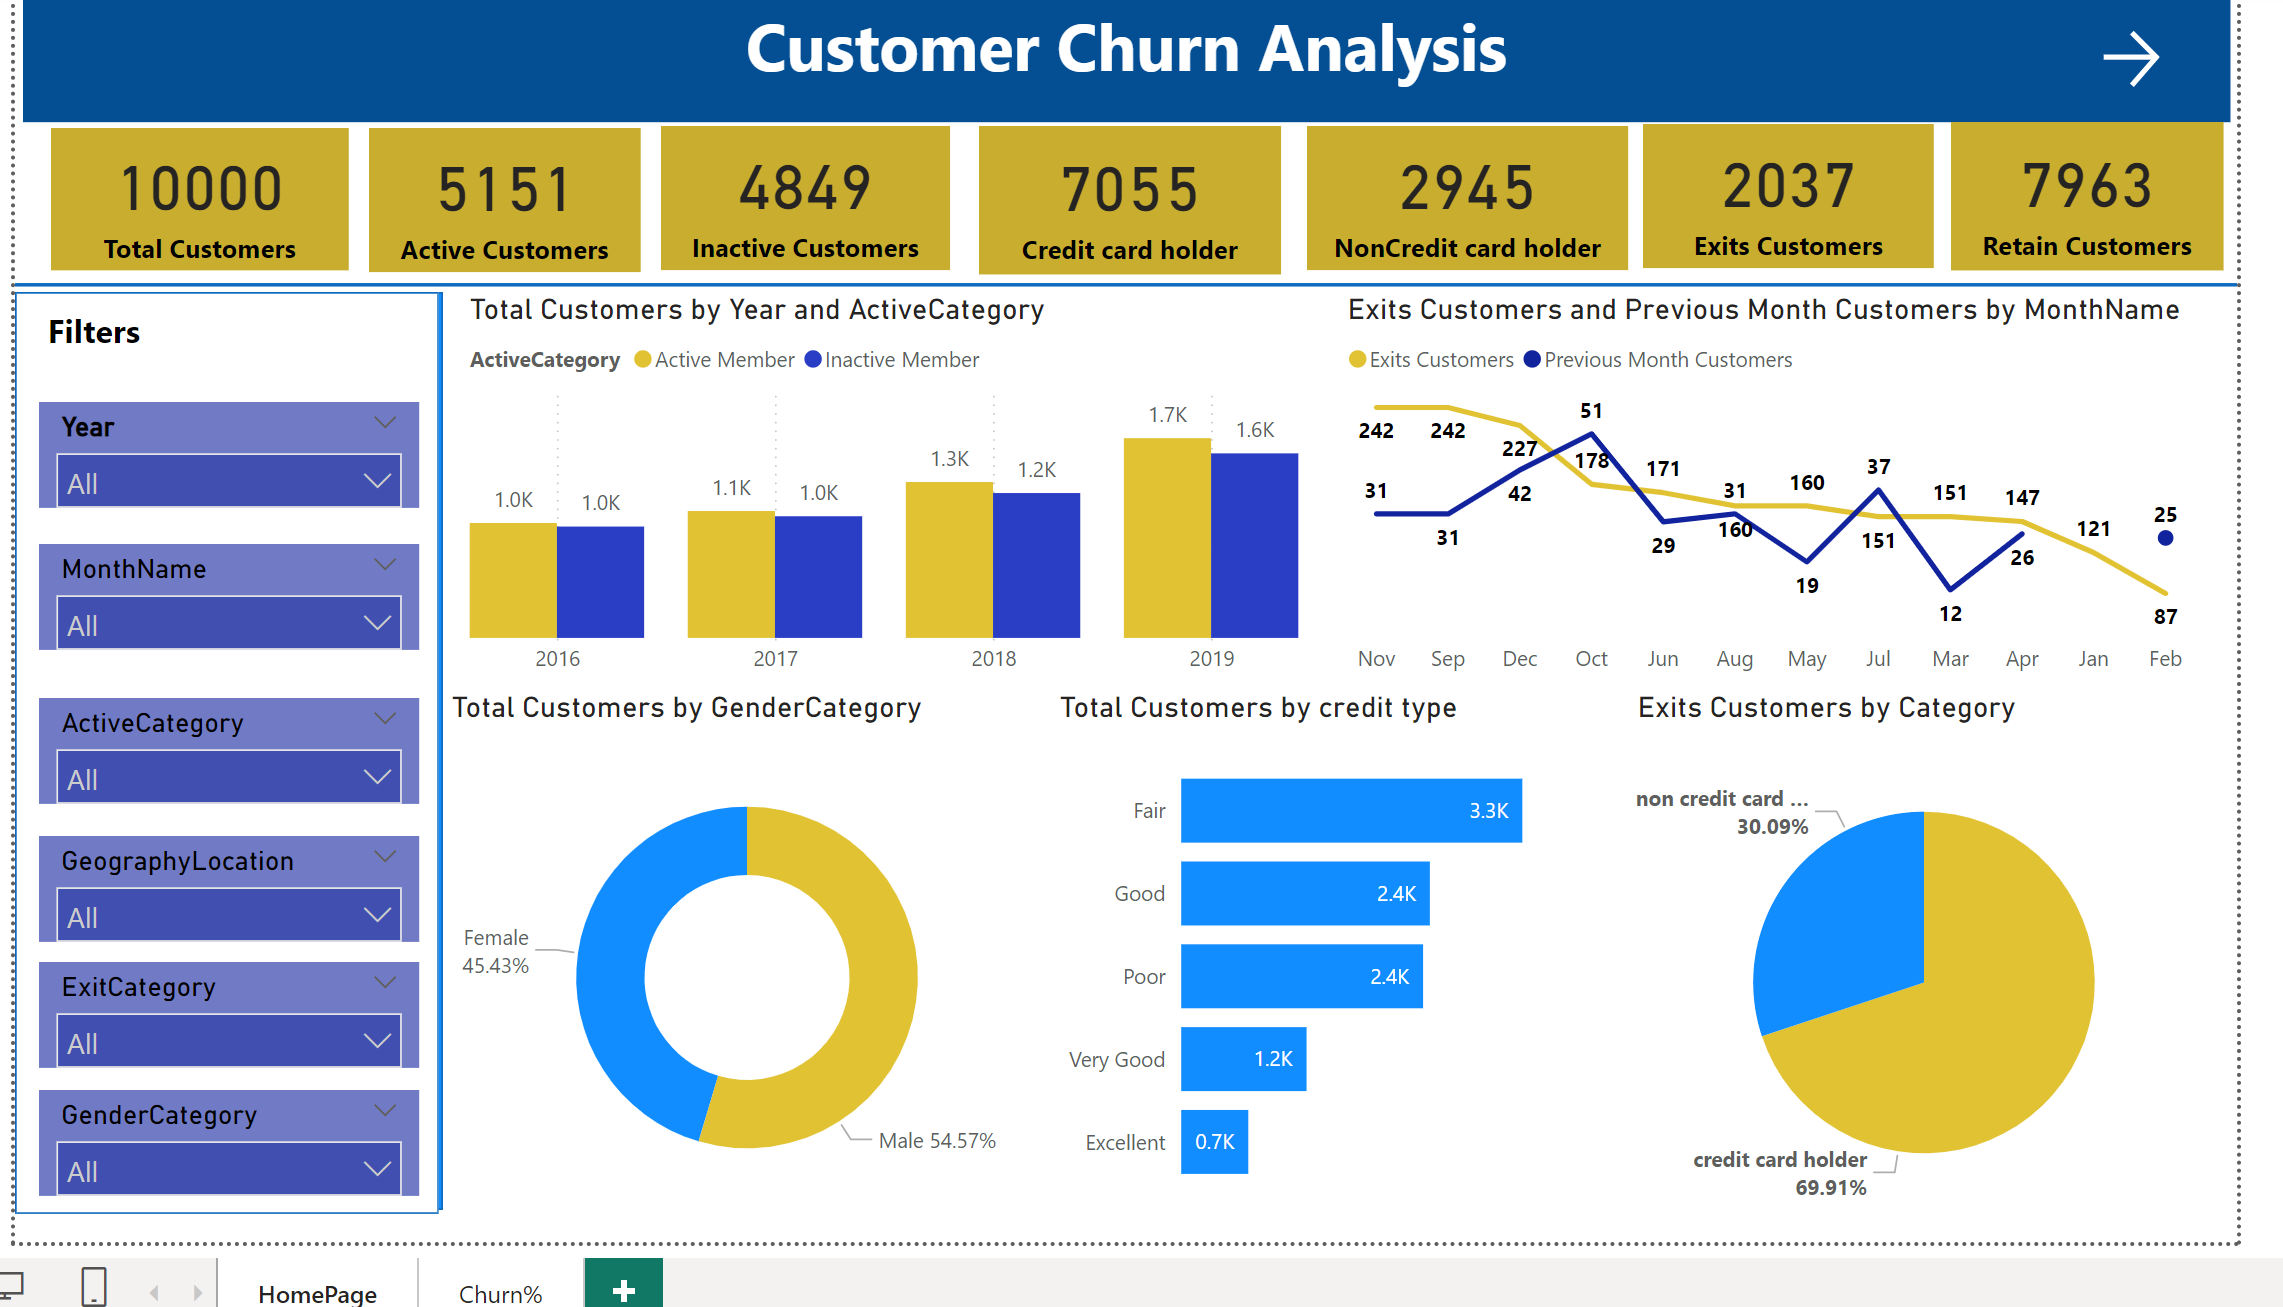

This screenshot's page, from the dashboard's own definition file:
{"tool":"powerbi","page":{"name":"HomePage","canvas":[1280,720],"ordinal":0},"visuals":[{"type":"textbox","box":[5,0,1271.2,75],"z":0},{"type":"card","fields":{"Values":["Calculations.Total Customres"]},"box":[21.2,77.9,171.2,81.9],"z":0,"group":"g1"},{"type":"shape","box":[4.6,172.9,241.9,528.8],"z":0,"group":"g2"},{"type":"group","id":"g1","title":"Group 1","box":[0,74.9,1280,629.1],"z":1000},{"type":"card","fields":{"Values":["Calculations.Active Customers"]},"box":[203.8,77.9,156.2,83],"z":1000,"group":"g1"},{"type":"shape","box":[0,172.9,244.2,531.1],"z":1000,"group":"g2"},{"type":"card","fields":{"Values":["Calculations.Inactive Customers"]},"box":[372.5,76.8,166.2,83],"z":2000,"group":"g1"},{"type":"slicer","fields":{"Values":["Datemaster.Year"]},"box":[13.8,236.2,218.9,61.1],"z":2000},{"type":"card","fields":{"Values":["Calculations.Credit card holder"]},"box":[555,76.8,173.8,85.3],"z":3000,"group":"g1"},{"type":"slicer","fields":{"Values":["Geography.GeographyLocation"]},"box":[13.8,486.1,218.9,61.1],"z":3000},{"type":"card","fields":{"Values":["Calculations.NonCredit card holder"]},"box":[743.8,76.8,185,83],"z":4000,"group":"g1"},{"type":"slicer","fields":{"Values":["ExitCustomer.ExitCategory"]},"box":[13.8,558.7,218.9,61.1],"z":4000},{"type":"card","fields":{"Values":["Calculations.Exits Customers"]},"box":[937.5,75.7,167.5,83],"z":5000,"group":"g1"},{"type":"slicer","fields":{"Values":["Gender.GenderCategory"]},"box":[13.8,632.4,218.9,61.1],"z":5000},{"type":"card","fields":{"Values":["Calculations.Retain Customers"]},"box":[1115.5,74.9,156.8,85.3],"z":6000,"group":"g1"},{"type":"slicer","fields":{"Values":["Datemaster.MonthName"]},"box":[13.8,318,218.9,61.1],"z":6000},{"type":"shape","box":[0,159.8,1280,17.1],"z":7000,"group":"g1"},{"type":"slicer","fields":{"Values":["ActiveCustomer.ActiveCategory"]},"box":[13.8,406.7,218.9,61.1],"z":7000},{"type":"group","id":"g2","title":"Group 2","box":[0,172.9,246.5,531.1],"z":8000,"group":"g1"},{"type":"textbox","box":[13.8,177.5,77.5,41.2],"z":8000},{"type":"clusteredColumnChart","fields":{"Category":["Datemaster.Year","Datemaster.MonthName"],"Y":["Calculations.Total Customers"],"Series":["ActiveCustomer.ActiveCategory"]},"box":[256.9,172.8,487.3,229.2],"z":9000},{"type":"lineChart","fields":{"Y":["Calculations.Exits Customers"],"Category":["Datemaster.MonthName"],"Y2":["Calculations.Previous Month Customers"]},"box":[762.6,172.8,497.7,229.2],"z":10000},{"type":"donutChart","fields":{"Y":["Calculations.Total Customers"],"Category":["Gender.GenderCategory"]},"box":[246.5,402,350.2,312.2],"z":11000},{"type":"pieChart","fields":{"Y":["Calculations.Exits Customers"],"Category":["CreditCard.Category"]},"box":[929.7,402,339.8,318],"z":13000},{"type":"clusteredBarChart","fields":{"Category":["Bank_Churn.credit type"],"Y":["Calculations.Total Customers"]},"box":[596.7,402,299.5,304.1],"z":15000},{"type":"actionButton","box":[1196.9,17.3,63.4,42.6],"z":15001}]}

Visuals, with their boxes in screenshot pixels (x1, y1, x2, y2):
textbox: 15,0,2251,120
card - Calculations.Total Customres: 43,125,344,269
shape: 14,292,440,1222
"Group 1" group: 6,120,2257,1226
card - Calculations.Active Customers: 364,125,639,271
shape: 6,292,435,1226
card - Calculations.Inactive Customers: 661,123,953,269
slicer - Datemaster.Year: 30,404,415,511
card - Calculations.Credit card holder: 982,123,1288,273
slicer - Geography.GeographyLocation: 30,843,415,951
card - Calculations.NonCredit card holder: 1314,123,1640,269
slicer - ExitCustomer.ExitCategory: 30,971,415,1078
card - Calculations.Exits Customers: 1655,121,1950,267
slicer - Gender.GenderCategory: 30,1100,415,1208
card - Calculations.Retain Customers: 1968,120,2244,270
slicer - Datemaster.MonthName: 30,547,415,655
shape: 6,269,2257,299
slicer - ActiveCustomer.ActiveCategory: 30,703,415,811
"Group 2" group: 6,292,440,1226
textbox: 30,300,167,373
clusteredColumnChart - Datemaster.Year x Datemaster.MonthName: 458,292,1315,695
lineChart - Calculations.Exits Customers x Datemaster.MonthName: 1347,292,2223,695
donutChart - Calculations.Total Customers x Gender.GenderCategory: 440,695,1056,1244
pieChart - Calculations.Exits Customers x CreditCard.Category: 1641,695,2239,1255
clusteredBarChart - Bank_Churn.credit type x Calculations.Total Customers: 1056,695,1582,1230
actionButton: 2111,19,2223,93
